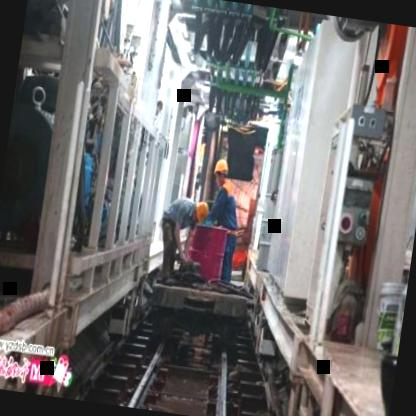helmet: (186, 196, 210, 226), (208, 156, 230, 186)
